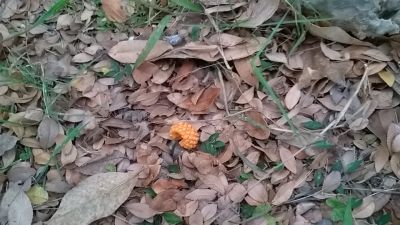eggs: (168, 122, 202, 150)
